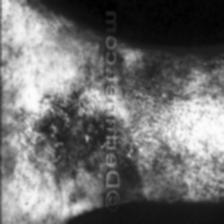Non-Cancerous Skin Condition: (31, 91, 104, 211)
